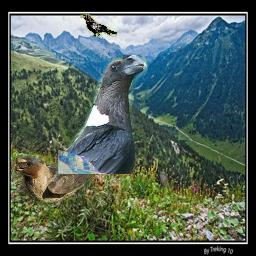Crow: (58, 55, 148, 174), (80, 14, 117, 37)
Swallow: (11, 155, 105, 206)
